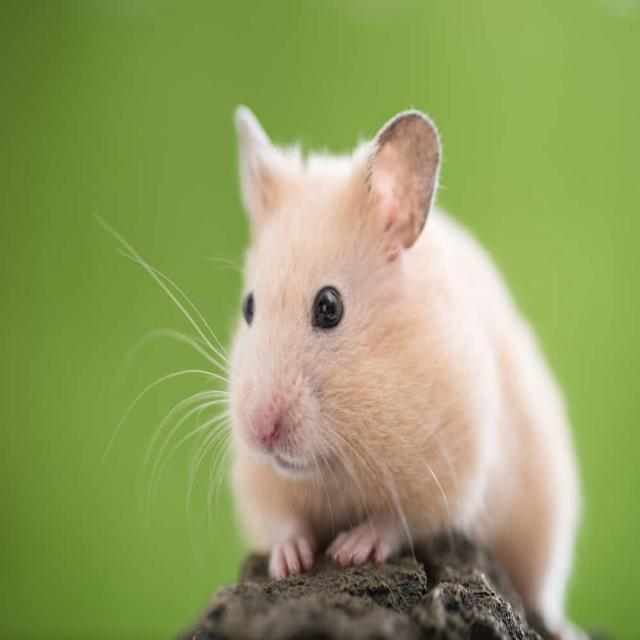hamster: (228, 106, 584, 639)
